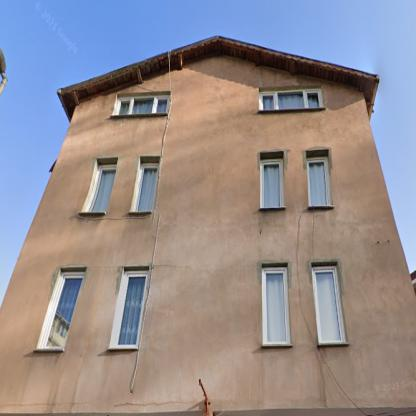window: (43, 276, 82, 348), (116, 276, 146, 346), (315, 271, 340, 342), (266, 272, 286, 343), (88, 168, 116, 212), (136, 166, 158, 211), (262, 92, 320, 109), (308, 161, 327, 206), (263, 162, 281, 207), (118, 99, 168, 114)
